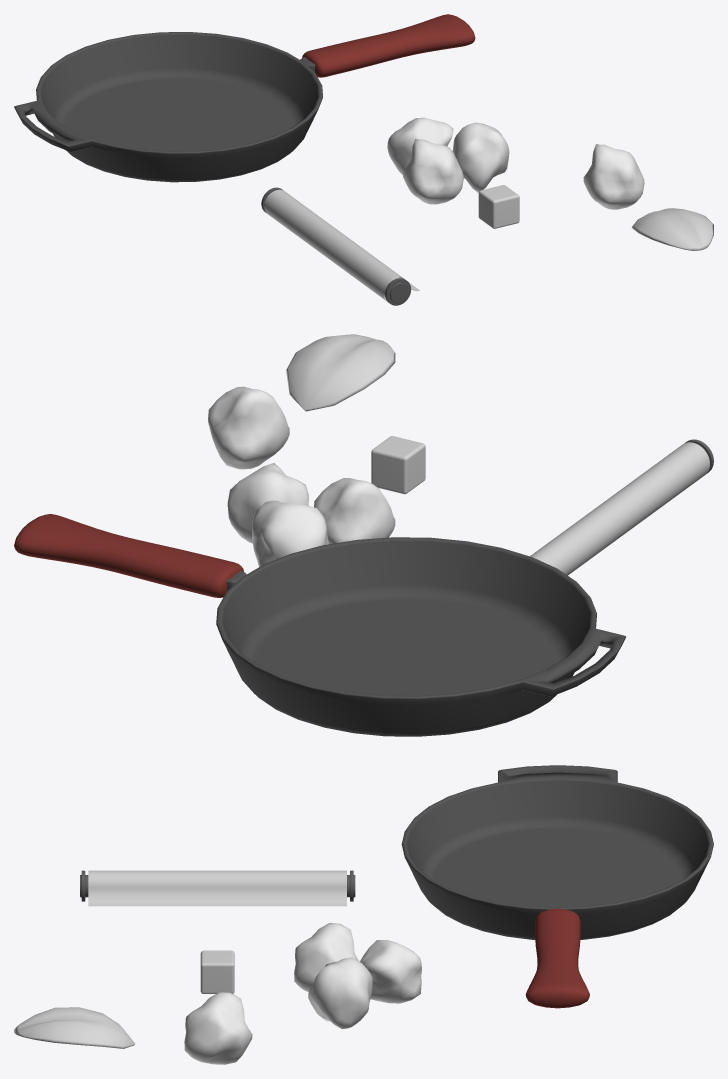
File: Items2.fbx
3 views of the same model, one above another, from view 1: azimuth 30°, elevation 25°; view 2: azimuth 150°, elevation 25°; view 3: azimuth 270°, elevation 25° (orthographic). The views are drawn at different scales.
Parts seen in each view (by area): view 1: Skillet, Cotton balls, Aluminum Foil, Cotton ball, Plane.004, Cube.001; view 2: Skillet, Cotton balls, Aluminum Foil, Plane.004, Cotton ball, Cube.001; view 3: Skillet, Aluminum Foil, Cotton balls, Cotton ball, Plane.004, Cube.001.
Part boxes in pixels (bbox=[...]): Skillet: bbox=[14, 14, 475, 182]; Cotton balls: bbox=[387, 117, 509, 204]; Aluminum Foil: bbox=[261, 187, 419, 305]; Cotton ball: bbox=[583, 144, 644, 209]; Plane.004: bbox=[631, 208, 713, 250]; Cube.001: bbox=[478, 185, 519, 228]; Skillet: bbox=[14, 514, 625, 736]; Cotton balls: bbox=[227, 463, 395, 566]; Aluminum Foil: bbox=[530, 439, 713, 575]; Plane.004: bbox=[286, 334, 395, 411]; Cotton ball: bbox=[208, 386, 289, 469]; Cube.001: bbox=[371, 436, 425, 494]; Skillet: bbox=[401, 765, 713, 1008]; Aluminum Foil: bbox=[80, 870, 355, 906]; Cotton balls: bbox=[294, 923, 421, 1029]; Cotton ball: bbox=[184, 992, 252, 1064]; Plane.004: bbox=[14, 1007, 135, 1048]; Cube.001: bbox=[200, 950, 234, 993].
Size of the model in its own units: 8.34 by 1.32 by 10.29.
